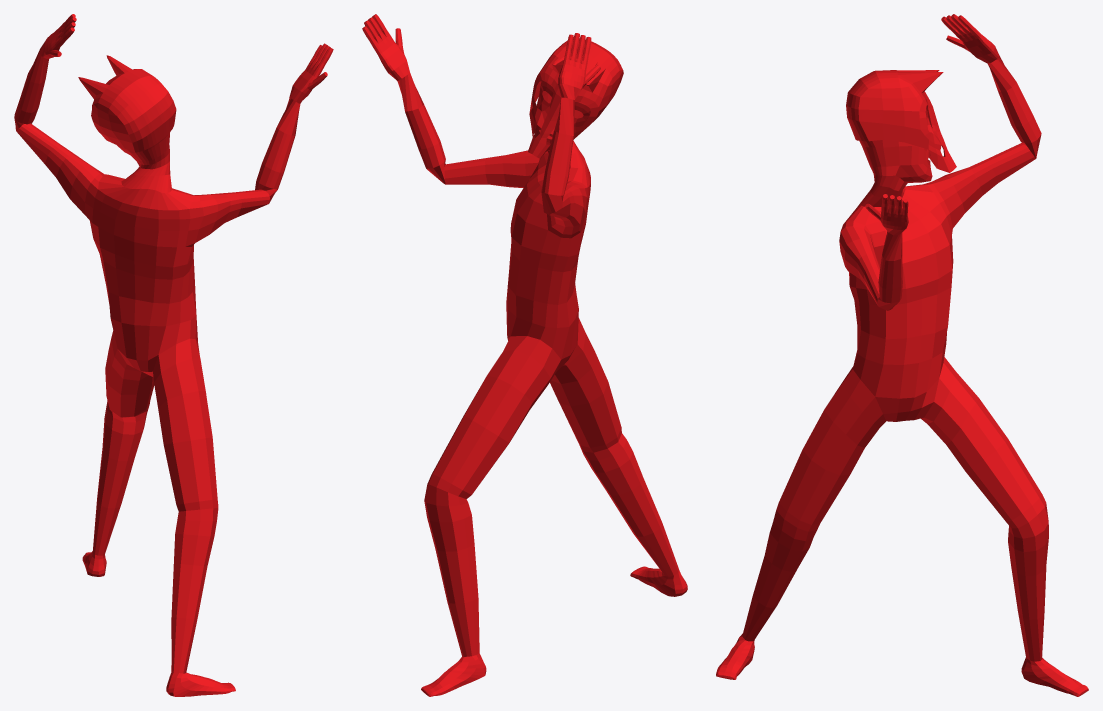
File: activaAlarma_000198.obj
3 views of the same model, side by side, from view 1: azimuth 30°, elevation 25°; view 2: azimuth 150°, elevation 25°; view 3: azimuth 270°, elevation 25° (orthographic). The views are drawn at different scales.
Visible parts, largest first — view 1: Plane.002_Plane.001; view 2: Plane.002_Plane.001; view 3: Plane.002_Plane.001.
Part boxes in pixels (left/top/right/bottom): Plane.002_Plane.001: left=14, top=14, right=333, bottom=696; Plane.002_Plane.001: left=362, top=14, right=687, bottom=696; Plane.002_Plane.001: left=716, top=14, right=1088, bottom=696.
Size of the model in its own units: 3.12 by 7.22 by 3.8.
